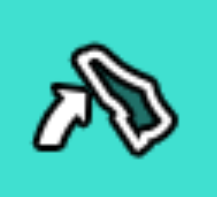ACCELERATOR: (25, 34, 185, 163)
